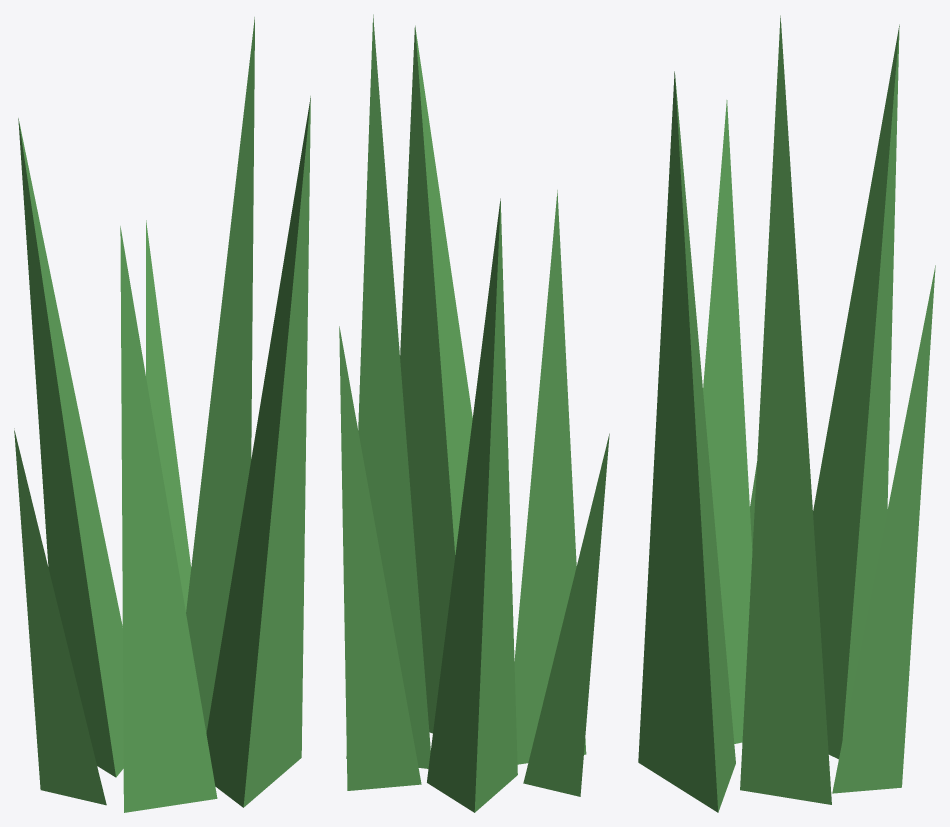
Rendered from Grass2.fbx.
The picture shows the model from 3 angles, left to right: view 1: azimuth 30°, elevation 25°; view 2: azimuth 150°, elevation 25°; view 3: azimuth 270°, elevation 25°; orthographic projection. The views are drawn at different scales.
Visible parts, largest first — view 1: Cone.002, Cone.001, Cone.003, Cone, Cone.005, Cone.004; view 2: Cone.003, Cone.002, Cone, Cone.004, Cone.001, Cone.005; view 3: Cone.002, Cone, Cone.003, Cone.004, Cone.001.
Boxes of the visible parts, box(x1,y1,x2,y2) form: Cone.002: box(206, 96, 310, 807); Cone.001: box(120, 226, 217, 812); Cone.003: box(18, 118, 123, 777); Cone: box(186, 17, 254, 733); Cone.005: box(14, 428, 106, 805); Cone.004: box(146, 220, 191, 611); Cone.003: box(427, 198, 517, 812); Cone.002: box(400, 25, 472, 733); Cone: box(346, 14, 430, 768); Cone.004: box(339, 326, 421, 790); Cone.001: box(514, 190, 586, 764); Cone.005: box(523, 433, 609, 796); Cone.002: box(638, 71, 735, 812); Cone: box(740, 15, 831, 804); Cone.003: box(813, 24, 899, 759); Cone.004: box(832, 265, 935, 793); Cone.001: box(703, 100, 752, 743).
Bounding box in the file's own units: 115 × 310 × 106.
